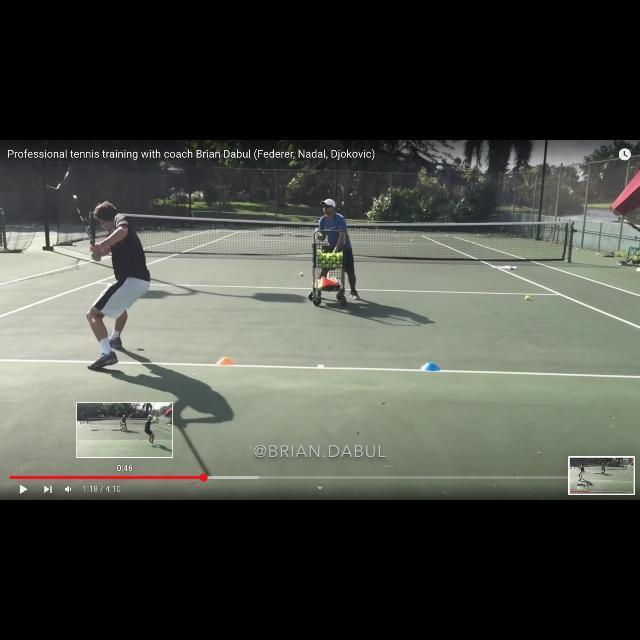tennis-ball: (524, 294, 530, 300), (299, 272, 303, 276)
